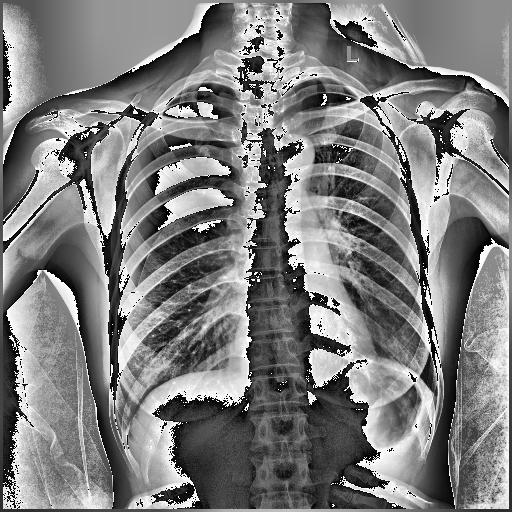0- Aortic enlargement: (272, 132, 316, 190)
12- Pneumothorax: (118, 76, 244, 320), (116, 78, 236, 312), (120, 82, 238, 292)
